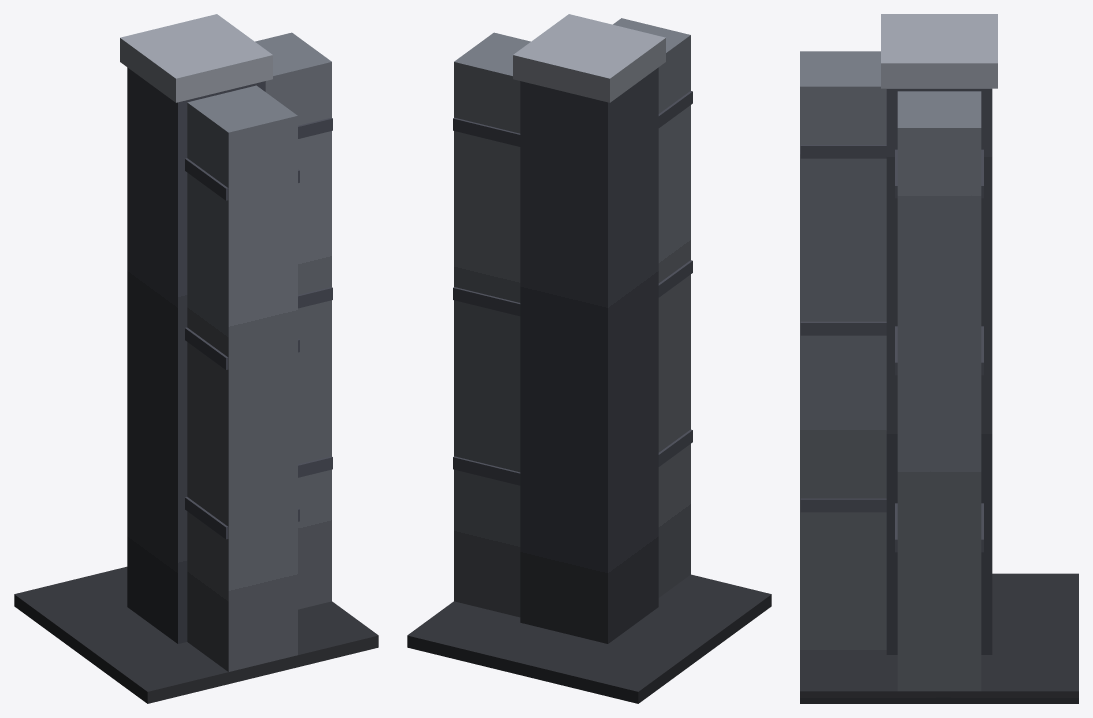
The model's file is model_45_iron_corner.glb.
3 views of the same model, side by side, from view 1: azimuth 30°, elevation 25°; view 2: azimuth 150°, elevation 25°; view 3: azimuth 270°, elevation 25° (orthographic). The views are drawn at different scales.
Bounding box in the file's own units: 1 × 2.4 × 1.
Materials: 1 (1 with a texture image).
